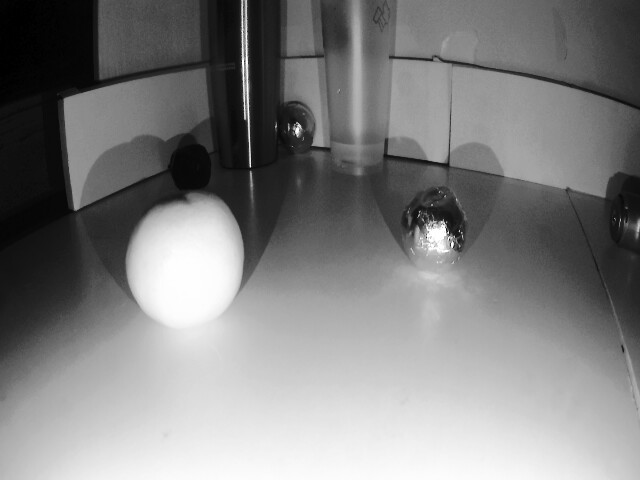black: (399, 182, 468, 277), (279, 100, 320, 155)
silver: (164, 138, 217, 197)
